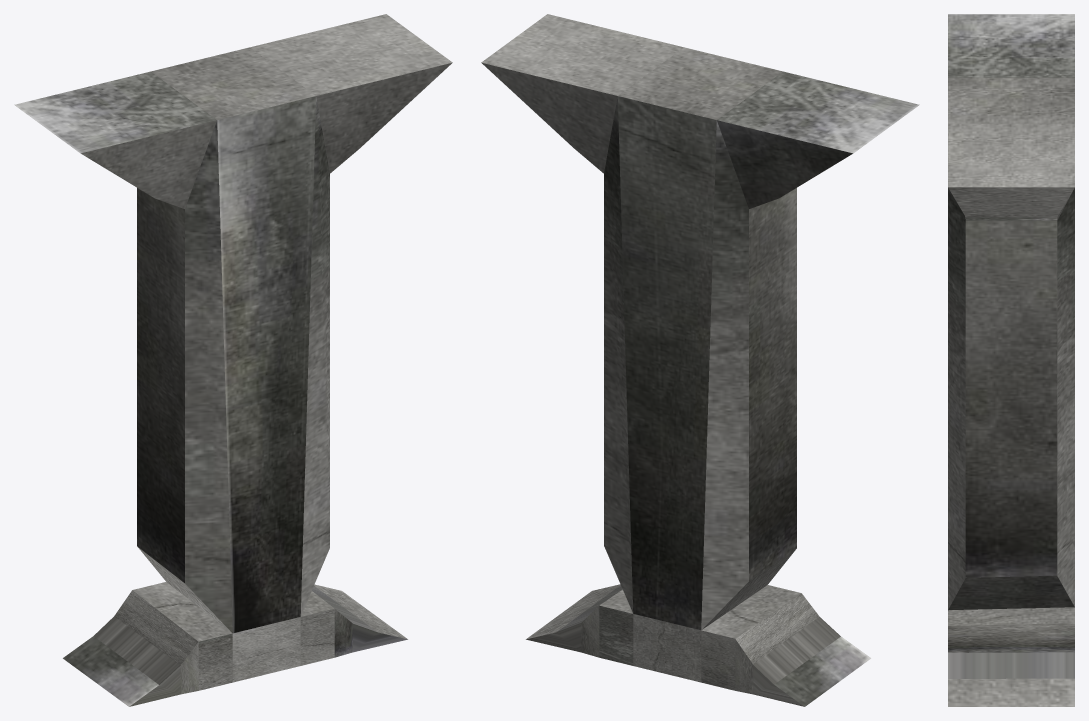
The model's file is R3_Wall.obj.
3 views of the same model, side by side, from view 1: azimuth 30°, elevation 25°; view 2: azimuth 150°, elevation 25°; view 3: azimuth 270°, elevation 25° (orthographic). The views are drawn at different scales.
Parts seen in each view (by area): view 1: Cube.001; view 2: Cube.001; view 3: Cube.001.
Boxes of the visible parts, bbox=[...] form: Cube.001: bbox=[14, 14, 452, 706]; Cube.001: bbox=[481, 14, 919, 706]; Cube.001: bbox=[948, 14, 1074, 706].
Bounding box in the file's own units: 3.76 × 5.46 × 1.16.
1 material, 1 textured.
